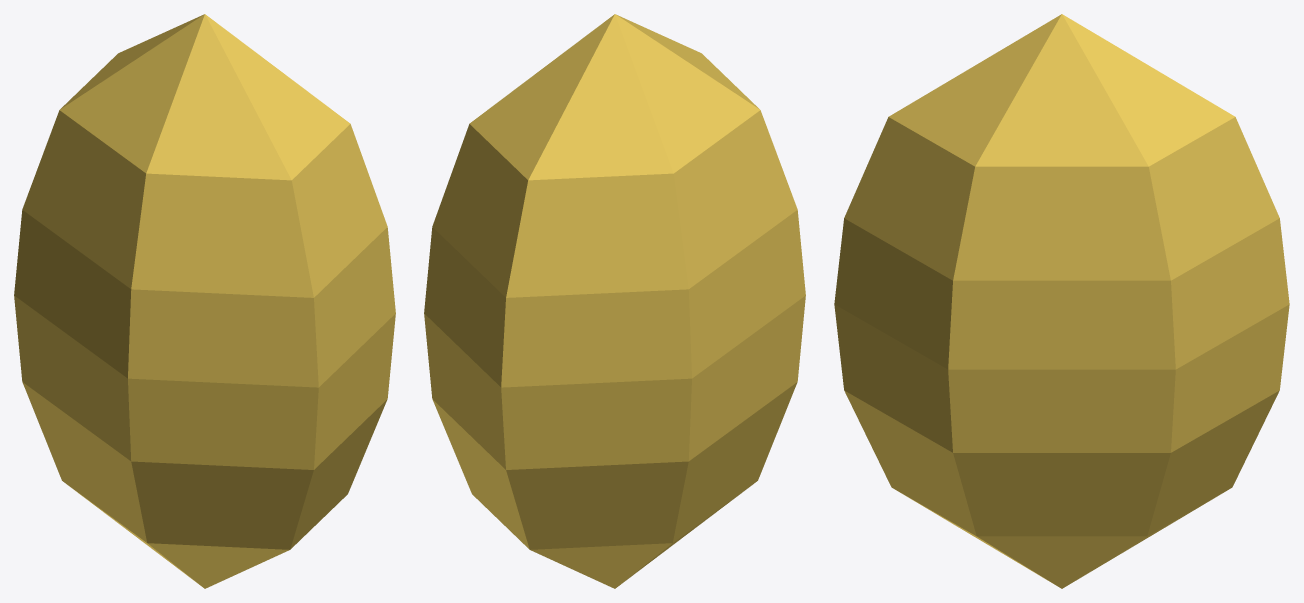
3 renders of one model, left to right at view 1: azimuth 30°, elevation 25°; view 2: azimuth 150°, elevation 25°; view 3: azimuth 270°, elevation 25°, orthographic.
Visible parts, largest first — view 1: Cylinder; view 2: Cylinder; view 3: Cylinder.
Part boxes in pixels (x1=…): Cylinder: x1=14, y1=14, x2=395, y2=588; Cylinder: x1=424, y1=14, x2=805, y2=588; Cylinder: x1=834, y1=14, x2=1289, y2=588.
Bounding box in the file's own units: 142 × 291 × 209.
